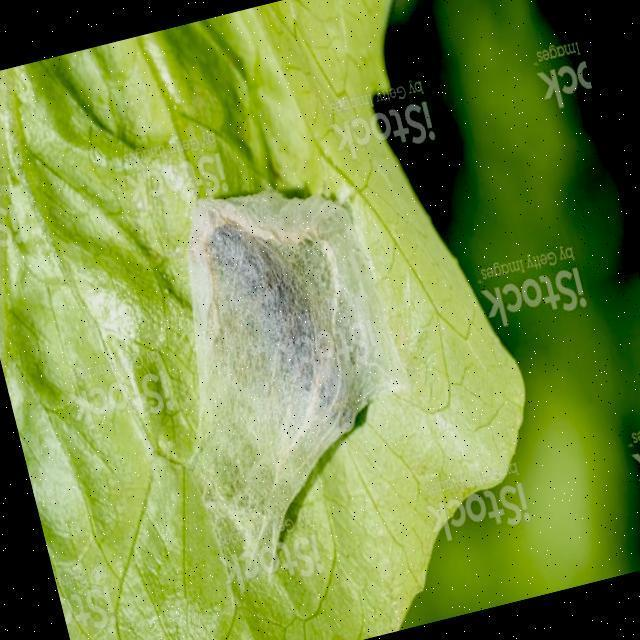Bacterial: (110, 149, 451, 566)
